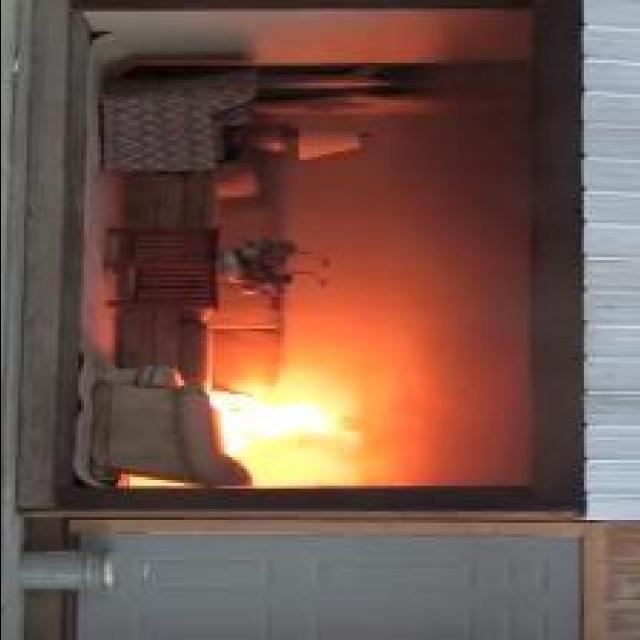Fire: (204, 392, 356, 458)
